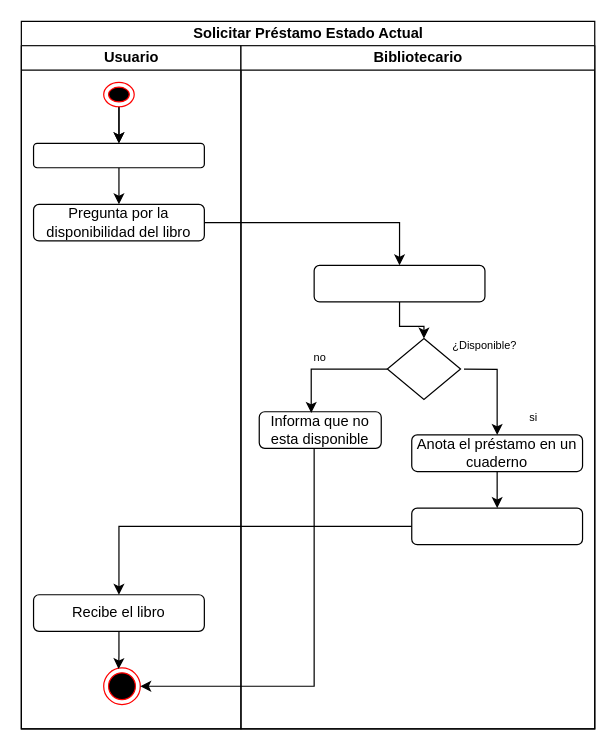
The diagram is 616 pixels wide and 750 high, and some of its shapes have lost their labels. The centre of each missing label's shape, as x and y in pixels:
"Busca manualmente en el registro o estantería" goes at [399,283].
"Entrega el libro al usuario" goes at [497,526].
"Se dirige a la biblioteca" goes at [118,155].
